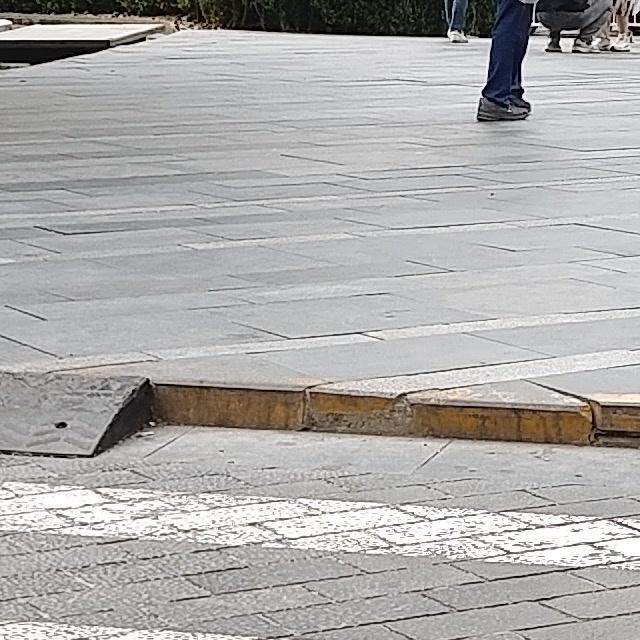curb: (152, 384, 639, 447)
